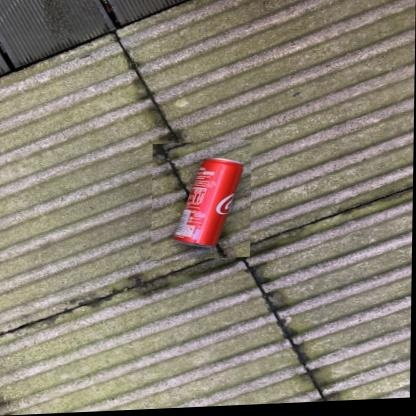trash: (174, 158, 242, 245)
